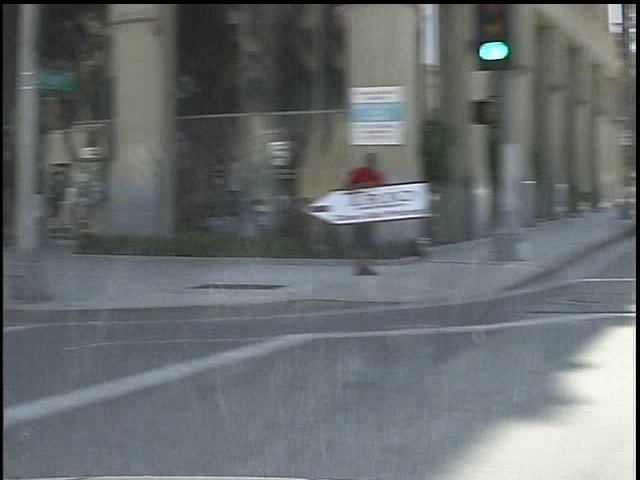person: (333, 142, 376, 279)
